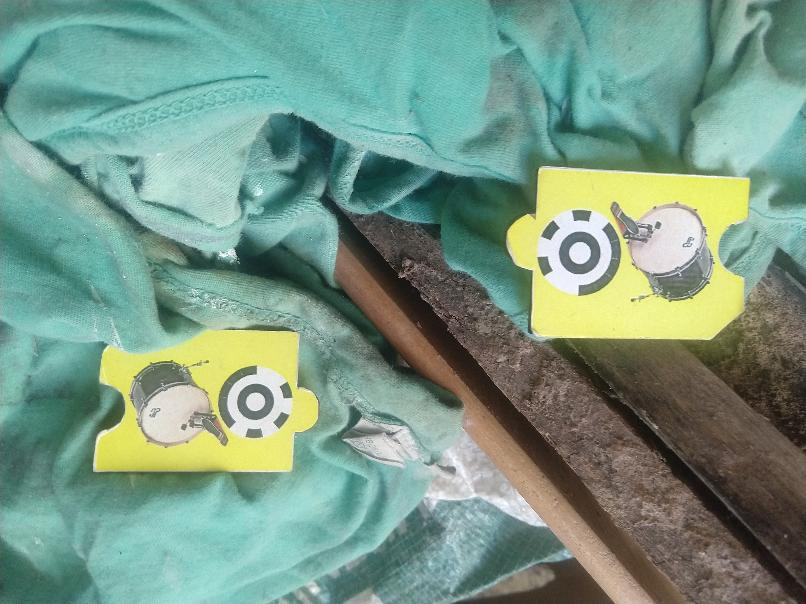bumbo: (511, 163, 749, 341), (94, 318, 320, 479)
